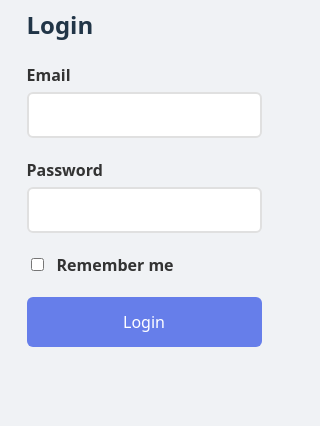
Test: Login form componant test › should show message for strength of password
Type "inv" into the password field with test id "password-input" at (144, 210), box [26,187,262,233]
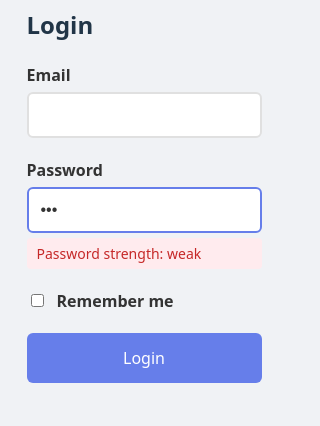
Leave the password field with test id "password-input", box [26,187,262,233]
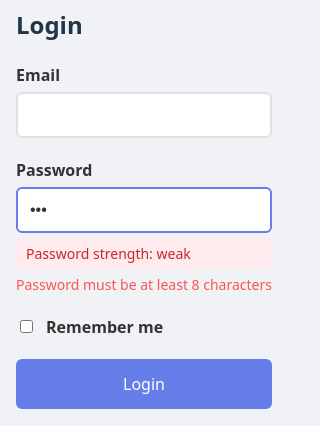
expect the text with test id "password-error" shows "at least 8 characters": met, box [16,275,272,294]
